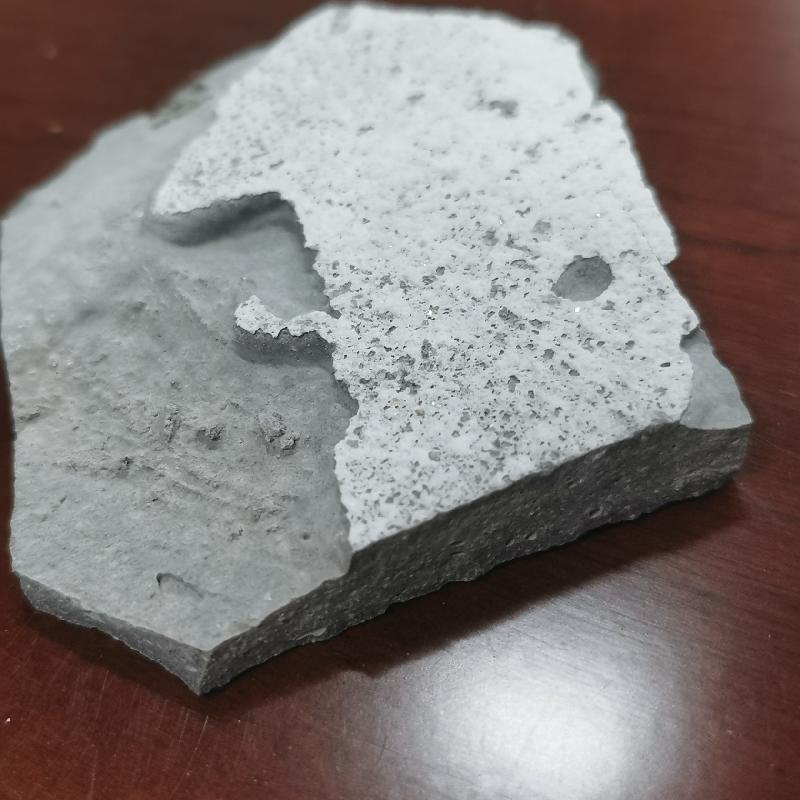tile: (2, 4, 757, 691)
